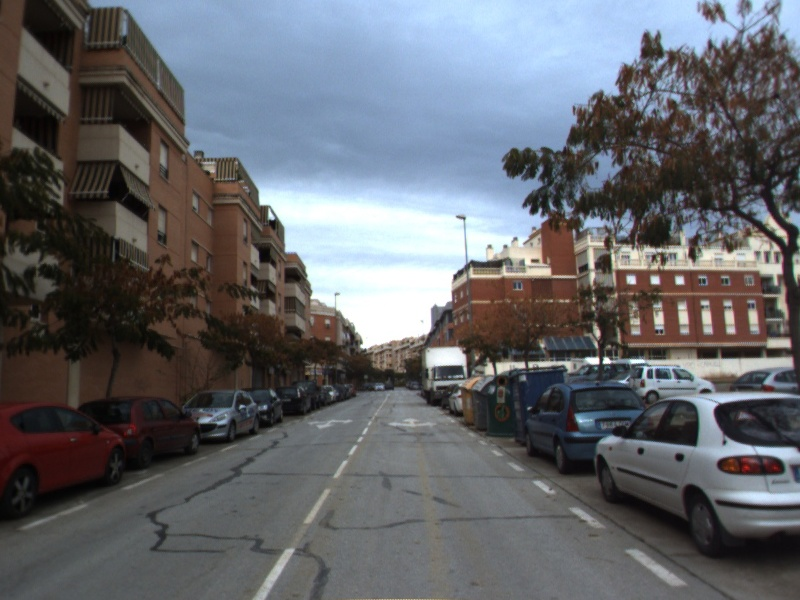STRAIGHT_LEFT_RIGHT: (386, 416, 439, 430)
